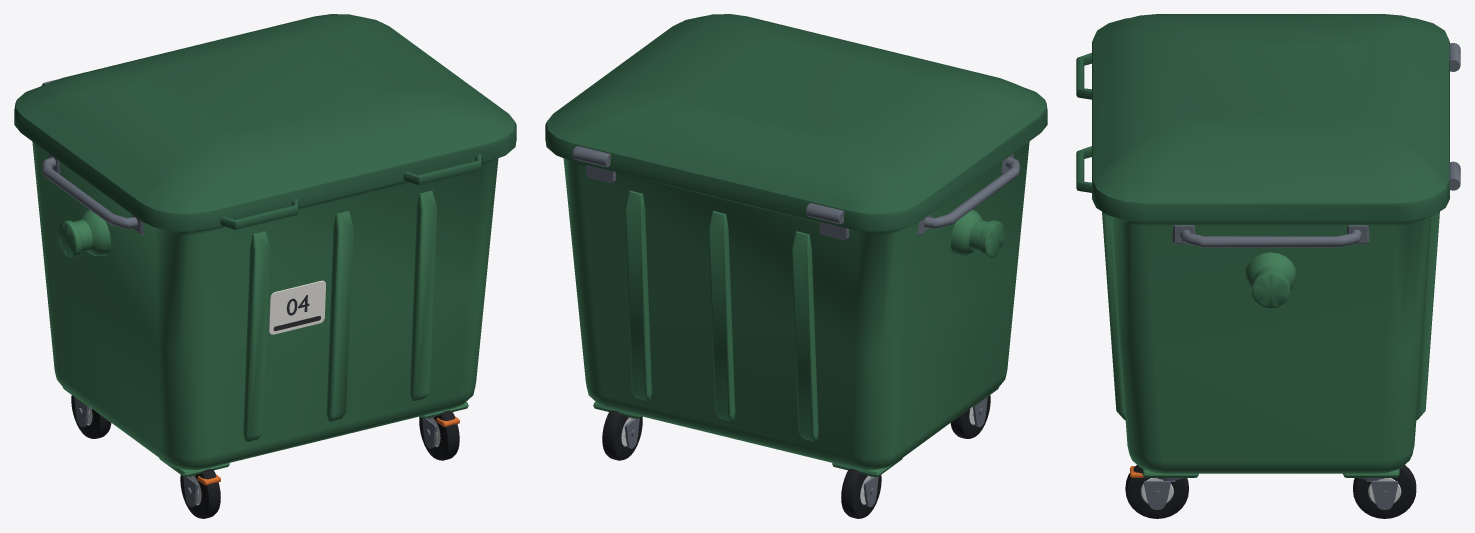
The model's file is Dumpster.fbx.
3 renders of one model, left to right at view 1: azimuth 30°, elevation 25°; view 2: azimuth 150°, elevation 25°; view 3: azimuth 270°, elevation 25°, orthographic. The views are drawn at different scales.
Parts seen in each view (by area): view 1: Dumpster_Body, Dumpster_Lid, Dumpster_Hardware, Dumpster_Label, Dumpster_Wheel_FR, Dumpster_Wheel_FL, Dumpster_Wheel_BL; view 2: Dumpster_Body, Dumpster_Lid, Dumpster_Hardware, Dumpster_Wheel_BR, Dumpster_Wheel_BL, Dumpster_Wheel_FL; view 3: Dumpster_Body, Dumpster_Lid, Dumpster_Hardware, Dumpster_Wheel_BR, Dumpster_Wheel_FR.
Boxes of the visible parts, x1=… form: Dumpster_Body: x1=32, y1=141, x2=498, y2=476; Dumpster_Lid: x1=14, y1=14, x2=516, y2=231; Dumpster_Hardware: x1=41, y1=79, x2=437, y2=507; Dumpster_Label: x1=269, y1=280, x2=325, y2=334; Dumpster_Wheel_FR: x1=419, y1=410, x2=459, y2=460; Dumpster_Wheel_FL: x1=180, y1=468, x2=220, y2=518; Dumpster_Wheel_BL: x1=71, y1=395, x2=111, y2=438; Dumpster_Body: x1=563, y1=141, x2=1029, y2=476; Dumpster_Lid: x1=545, y1=14, x2=1047, y2=231; Dumpster_Hardware: x1=572, y1=146, x2=1020, y2=507; Dumpster_Wheel_BR: x1=602, y1=410, x2=642, y2=460; Dumpster_Wheel_BL: x1=841, y1=468, x2=881, y2=518; Dumpster_Wheel_FL: x1=950, y1=395, x2=990, y2=438; Dumpster_Body: x1=1102, y1=212, x2=1439, y2=477; Dumpster_Lid: x1=1076, y1=14, x2=1449, y2=222; Dumpster_Hardware: x1=1143, y1=43, x2=1460, y2=509; Dumpster_Wheel_BR: x1=1353, y1=465, x2=1416, y2=518; Dumpster_Wheel_FR: x1=1125, y1=465, x2=1188, y2=518.
Size of the model in its own units: 144 by 124 by 115.
